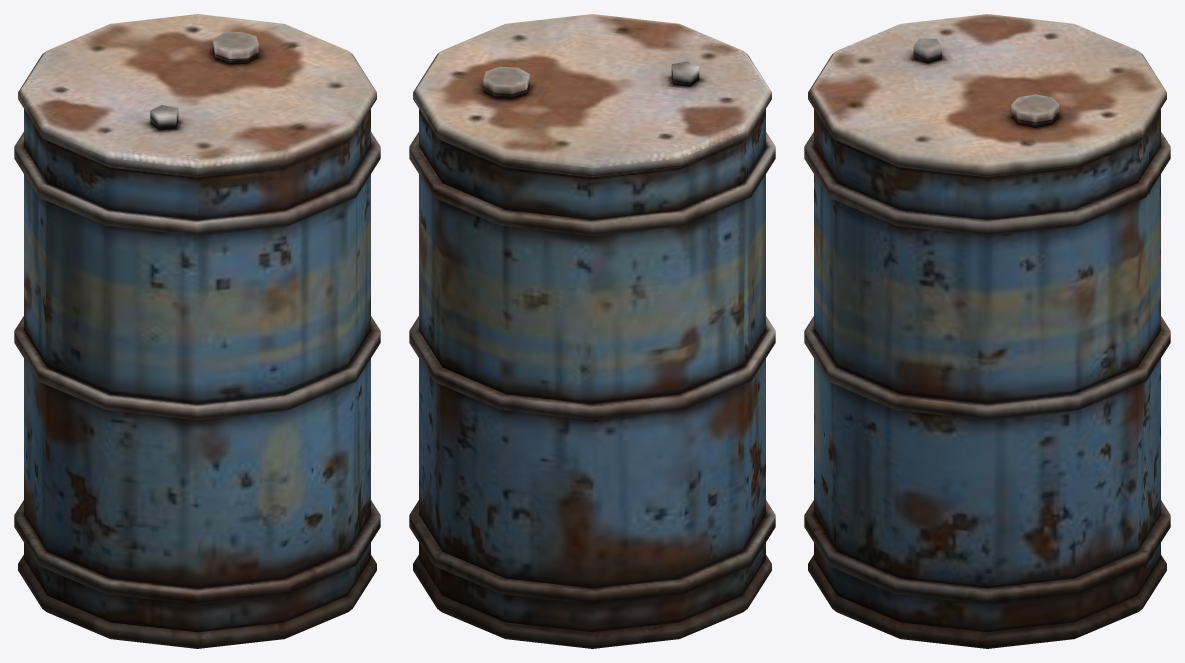
The model's file is tambor.glb.
3 views of the same model, side by side, from view 1: azimuth 30°, elevation 25°; view 2: azimuth 150°, elevation 25°; view 3: azimuth 270°, elevation 25° (orthographic).
Parts seen in each view (by area): view 1: tambor; view 2: tambor; view 3: tambor.
Boxes of the visible parts, x1=… form: tambor: x1=14, y1=14, x2=380, y2=648; tambor: x1=409, y1=14, x2=775, y2=648; tambor: x1=804, y1=14, x2=1170, y2=648.
Bounding box in the file's own units: 0.6126 × 0.925 × 0.6126.
Materials: 1 (1 with a texture image).
